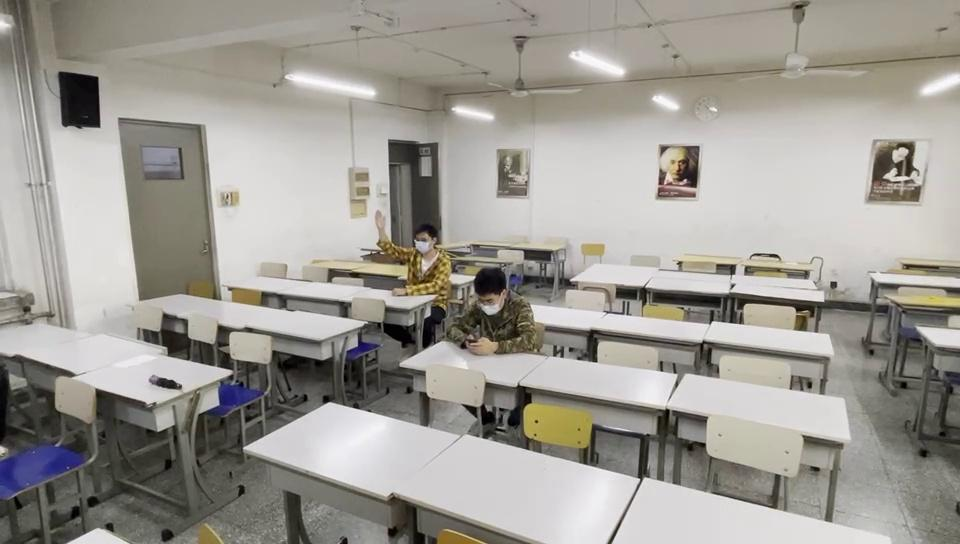phone: (448, 265, 534, 353)
study: (371, 208, 448, 294)
